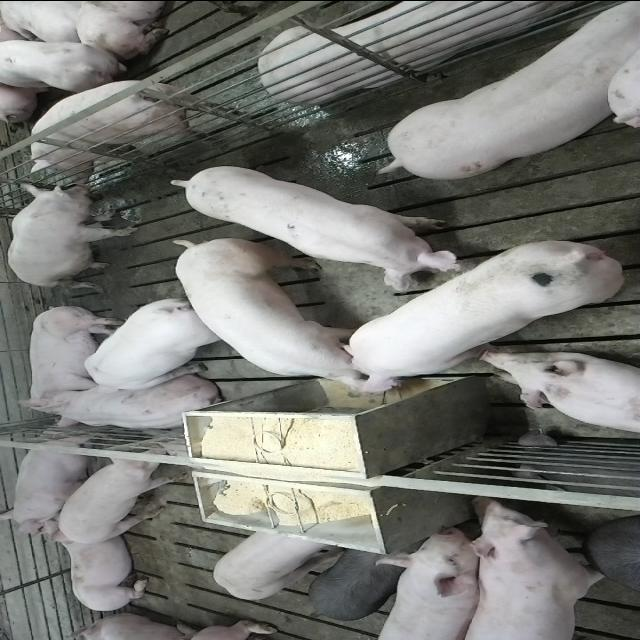Feeding: (343, 237, 625, 396), (165, 232, 384, 392)
Lateral_lying: (18, 302, 128, 415)
Sitting: (8, 180, 140, 286)
Standing: (375, 5, 635, 184), (166, 162, 466, 286), (459, 499, 614, 638), (28, 79, 235, 181), (80, 296, 228, 390), (58, 448, 190, 544), (369, 530, 480, 640), (210, 528, 340, 600), (304, 546, 408, 620), (584, 516, 638, 604)
Sternal_lying: (260, 0, 602, 100), (482, 349, 640, 434), (48, 524, 154, 612)
